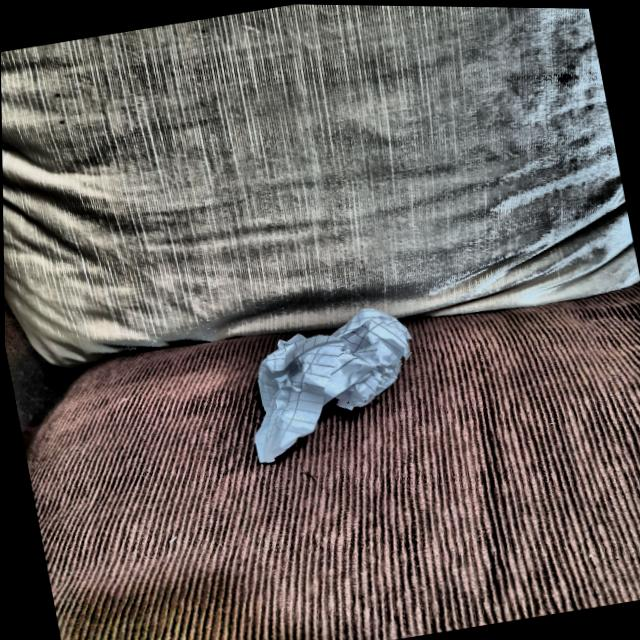Paper: (213, 295, 431, 467)
